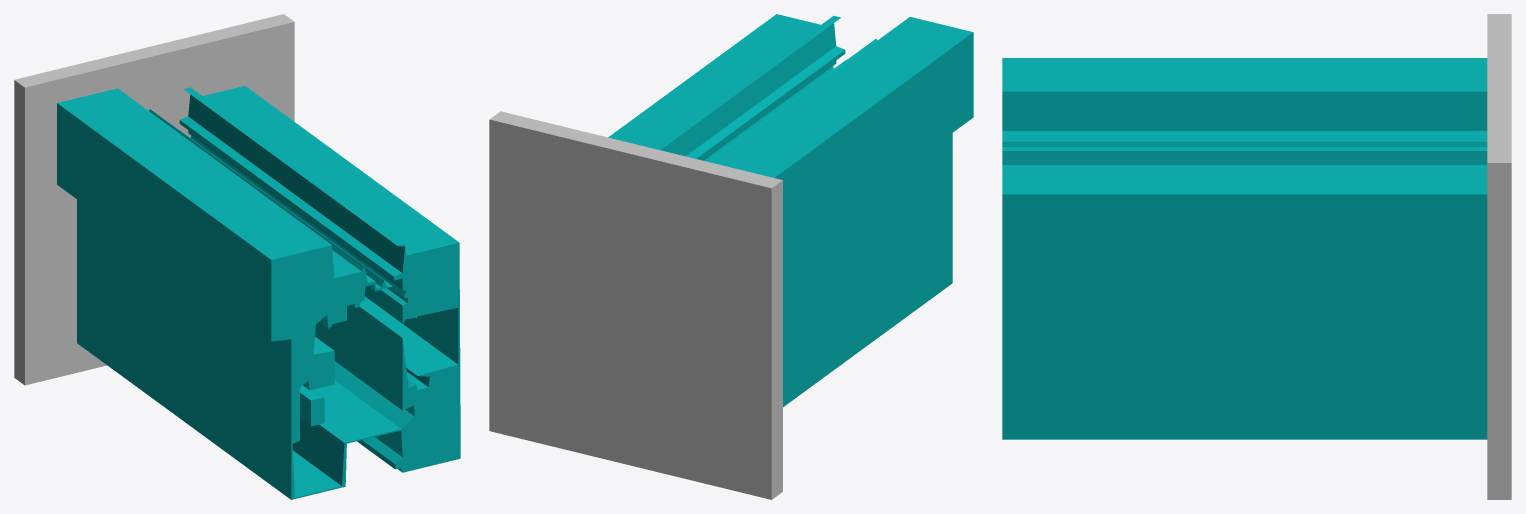
File: download (1)_B.glb
3 renders of one model, left to right at view 1: azimuth 30°, elevation 25°; view 2: azimuth 150°, elevation 25°; view 3: azimuth 270°, elevation 25°, orthographic. The views are drawn at different scales.
Parts seen in each view (by area): view 1: world; view 2: world; view 3: world.
Boxes of the visible parts, x1,y1,x2,y2 form: world: [14, 14, 460, 499]; world: [489, 14, 973, 499]; world: [1002, 14, 1511, 499].
Size of the model in its own units: 2.18 by 2.3 by 3.15.
